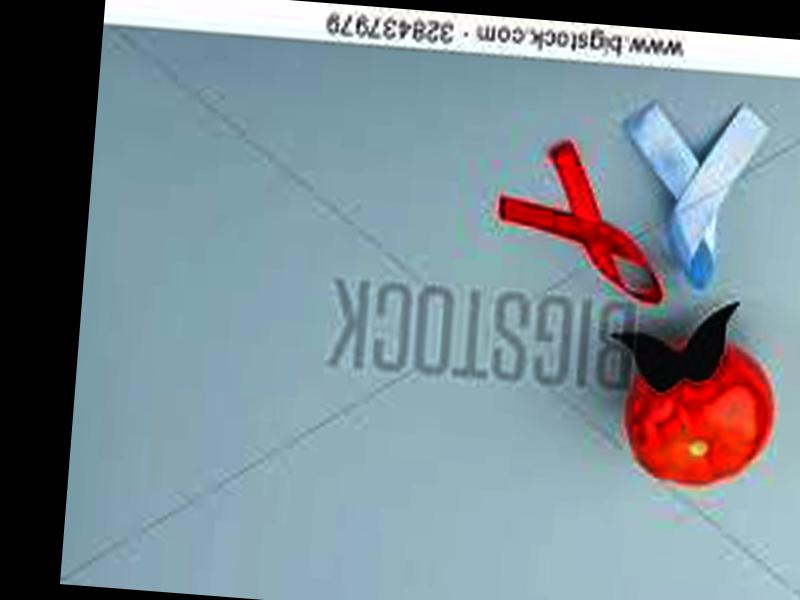Tomato: (619, 335, 777, 492)
